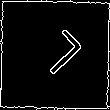L_SW: (26, 26, 84, 84)
